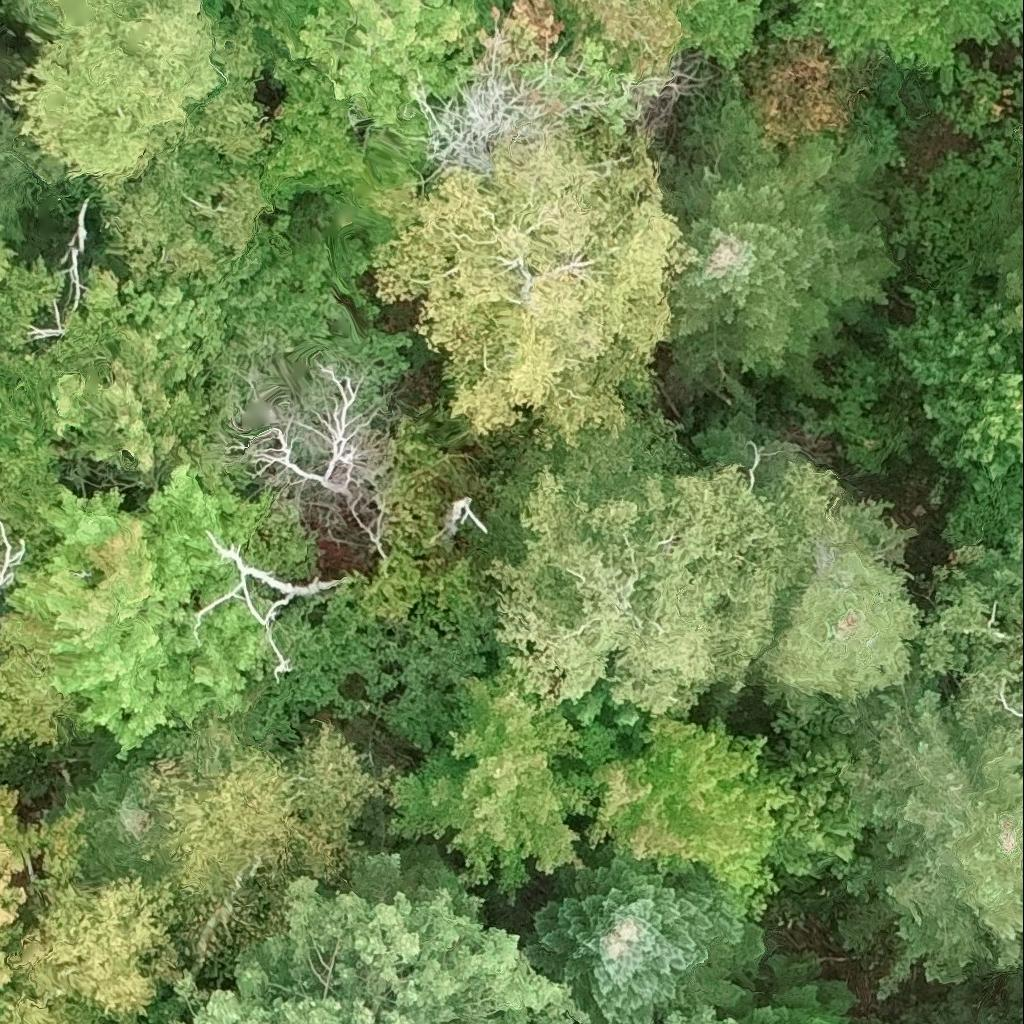crown: (457, 407, 914, 716), (235, 0, 681, 243), (0, 460, 315, 763), (378, 124, 678, 442), (385, 564, 646, 890), (665, 96, 897, 382), (138, 724, 382, 982), (173, 877, 582, 1023), (836, 685, 1023, 999), (0, 258, 229, 480), (583, 711, 790, 921), (524, 851, 770, 1023), (5, 801, 180, 1023), (225, 348, 398, 561), (755, 539, 923, 726), (188, 527, 355, 684), (892, 284, 1023, 482), (773, 0, 1023, 94), (0, 380, 71, 585), (936, 470, 1023, 637), (559, 0, 688, 66), (0, 783, 39, 989), (744, 953, 854, 1023), (994, 226, 1023, 342), (0, 987, 76, 1023), (994, 666, 1023, 734), (0, 218, 16, 275), (663, 1014, 736, 1023), (1014, 121, 1023, 173), (0, 146, 13, 162), (230, 433, 244, 439), (1007, 1019, 1023, 1023), (873, 1021, 888, 1023)
